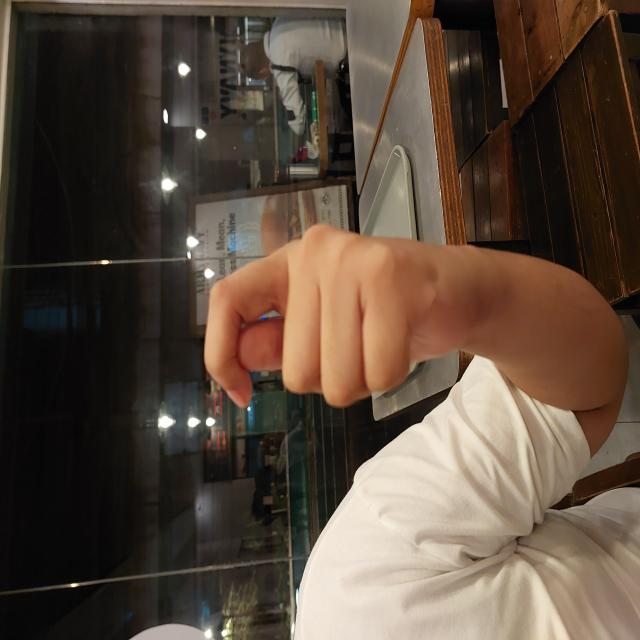T: (229, 203, 419, 479)
